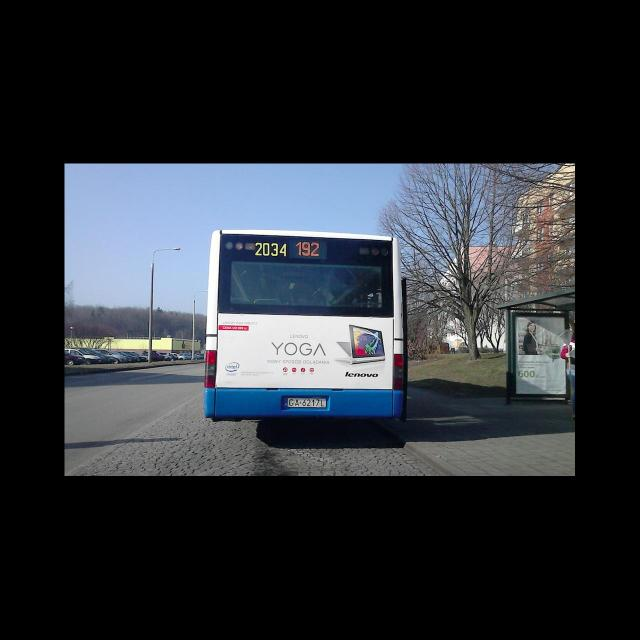Bus: (204, 230, 406, 419)
Electric pole: (148, 247, 180, 363)
Tree: (380, 165, 576, 360)
